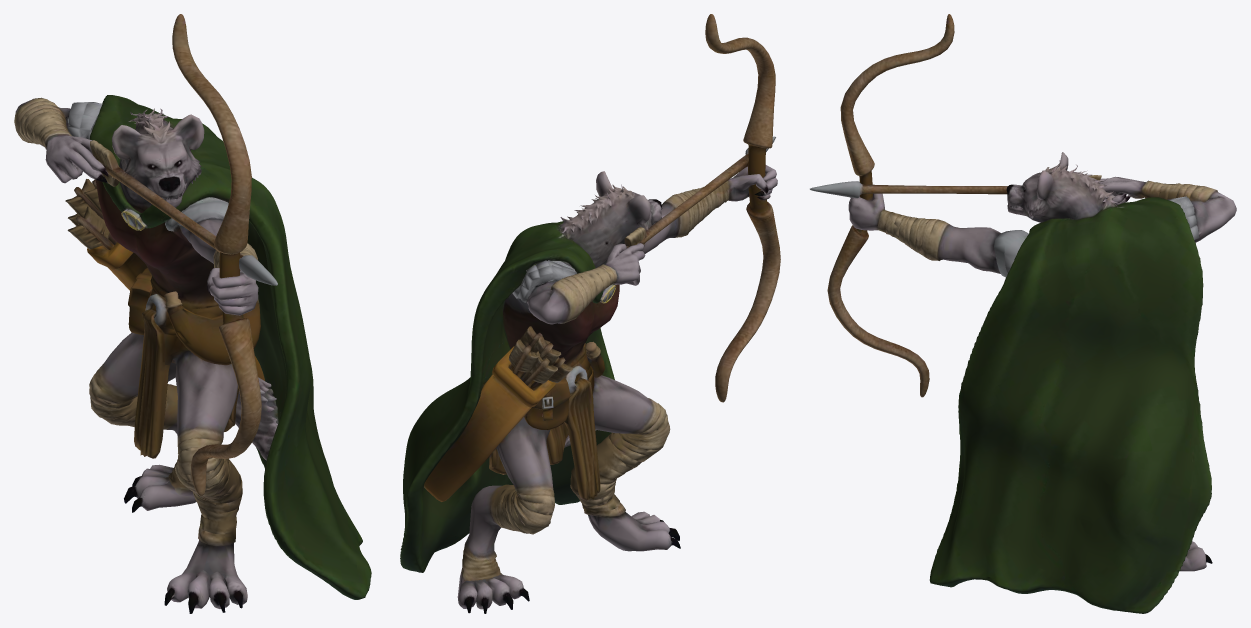
Rendered from MZ4250 - Gnoll Hunter.glb.
3 views of the same model, side by side, from view 1: azimuth 30°, elevation 25°; view 2: azimuth 150°, elevation 25°; view 3: azimuth 270°, elevation 25° (orthographic). The views are drawn at different scales.
Parts seen in each view (by area): view 1: Body.004; view 2: Body.004; view 3: Body.004.
Boxes of the visible parts, x1,y1,x2,y2 form: Body.004: (14,14,371,613); Body.004: (400,14,780,613); Body.004: (810,14,1236,613).
Size of the model in its own units: 1.15 by 2.55 by 1.95.
Materials: 1 (1 with a texture image).
